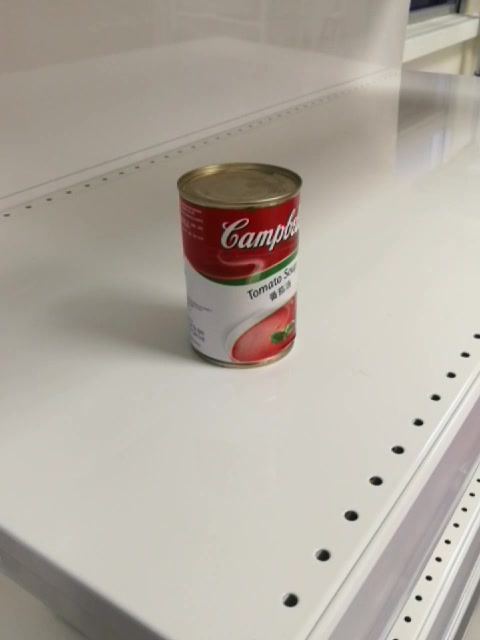tomatosoup: (176, 162, 305, 371)
